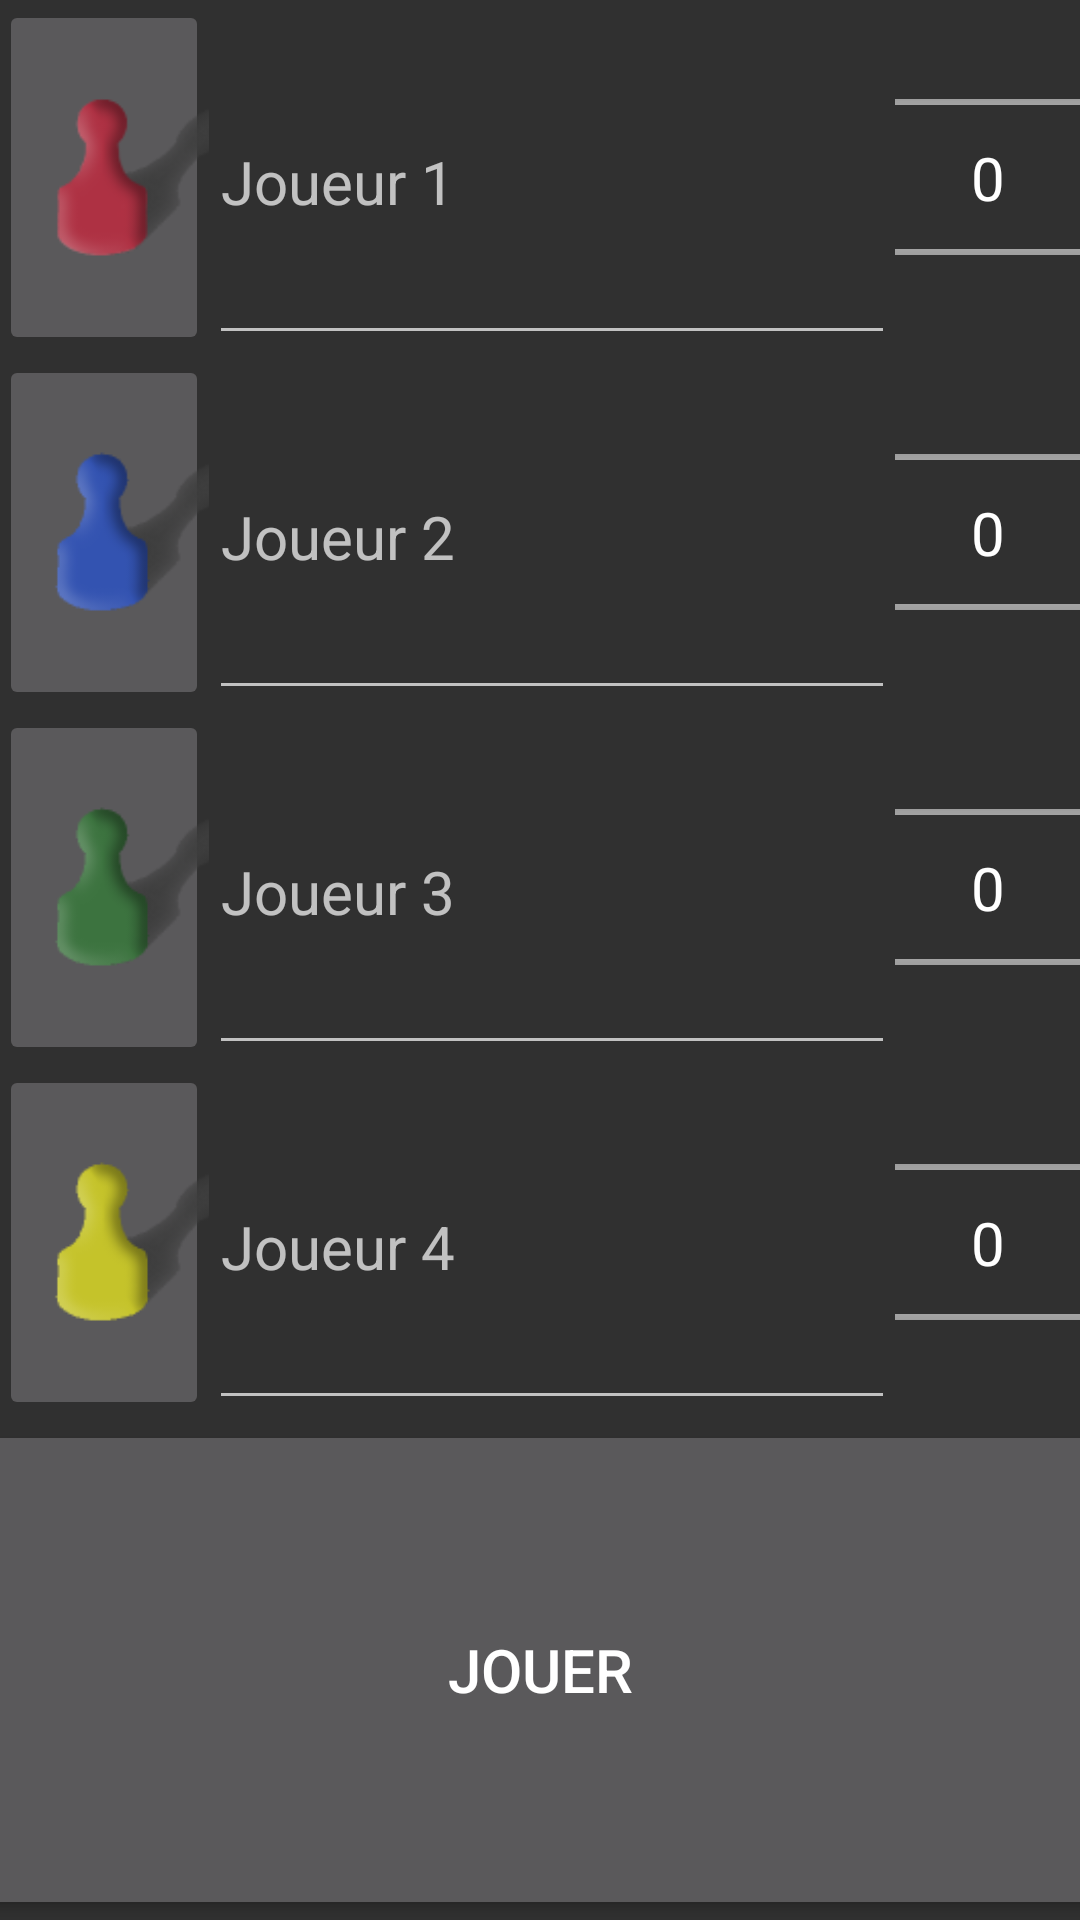

Named icons in this screenshot (1080 × 1920) and their centers, [x,y]:
pion bleu: [104,532]
pion jaune: [104,1242]
pion rouge: [104,177]
pion vert: [104,887]
